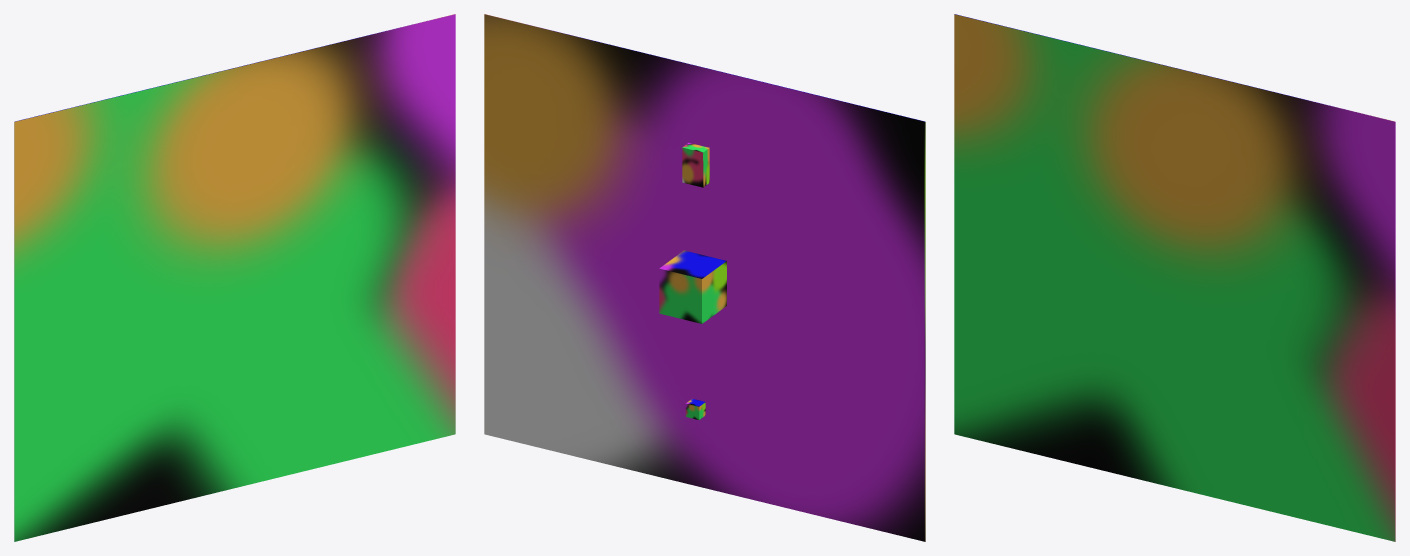
File: collisions.gltf
3 views of the same model, side by side, from view 1: azimuth 30°, elevation 25°; view 2: azimuth 150°, elevation 25°; view 3: azimuth 330°, elevation 25° (orthographic).
Visible parts, largest first — view 1: Cube.003; view 2: Cube.003, Cube, Cube.001; view 3: Cube.003.
Part boxes in pixels (box(x1,y1,x2,y2)): Cube.003: box(14, 14, 455, 541); Cube.003: box(484, 14, 925, 541); Cube: box(659, 250, 726, 323); Cube.001: box(682, 142, 709, 187); Cube.003: box(954, 14, 1395, 541).
Bounding box in the file's own units: 20.54 × 18.69 × 2.05.
Materials: 2 (2 with a texture image).
